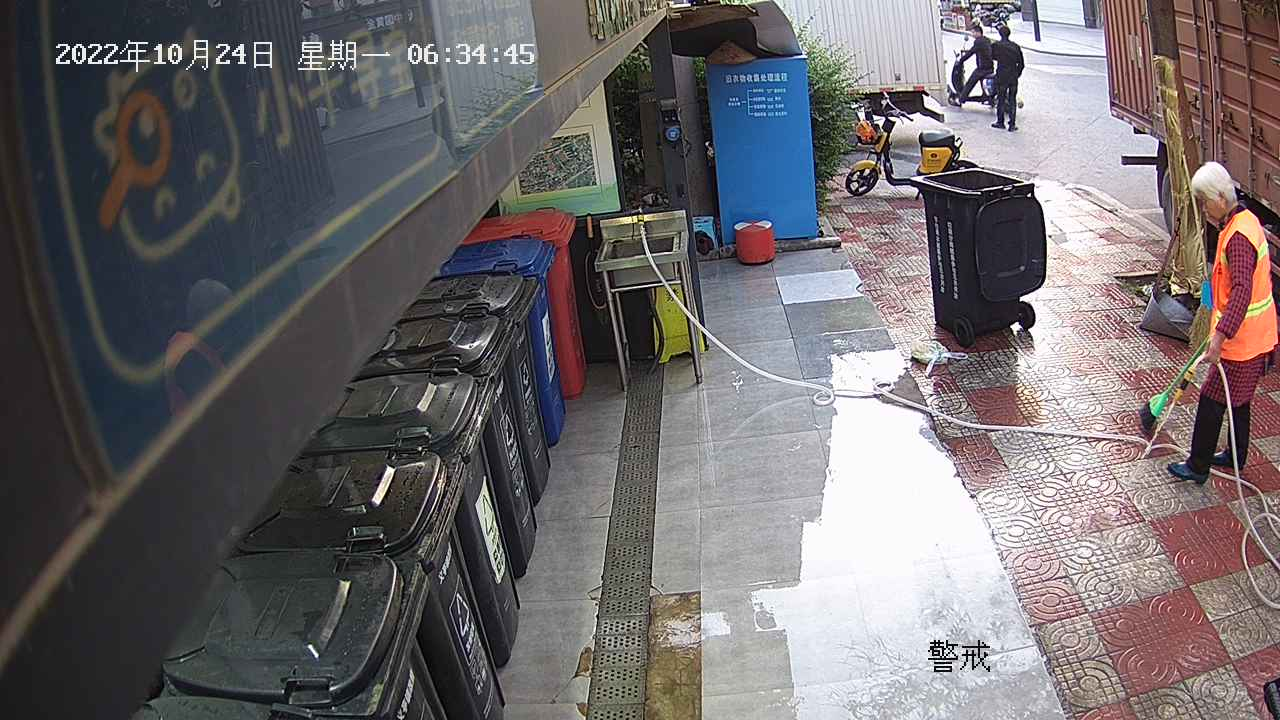garbage-bag: (904, 332, 970, 381)
worker: (1163, 157, 1280, 487)
